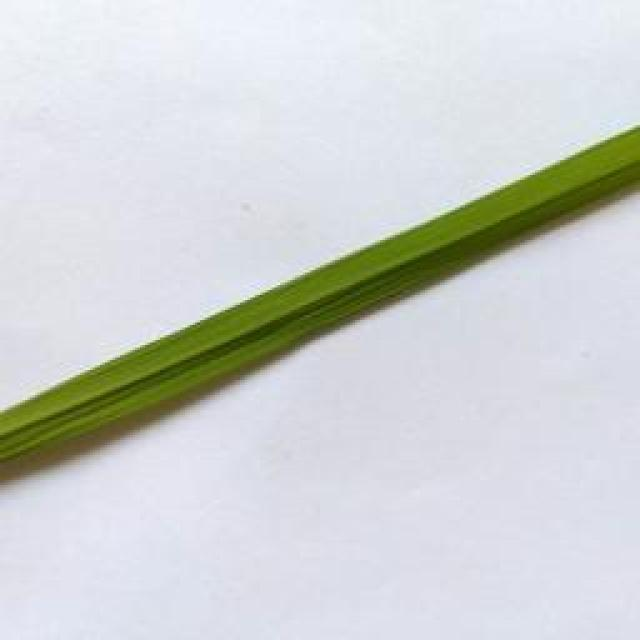Healthy-Plant: (0, 125, 640, 463)
